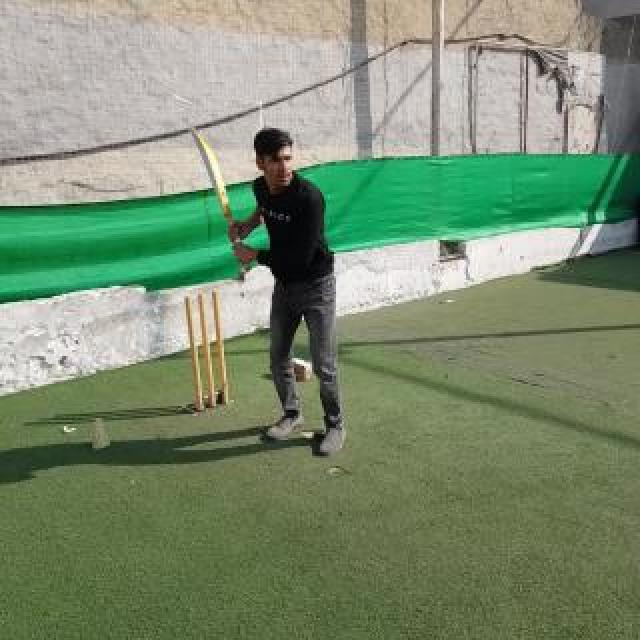bat: (188, 126, 252, 272)
